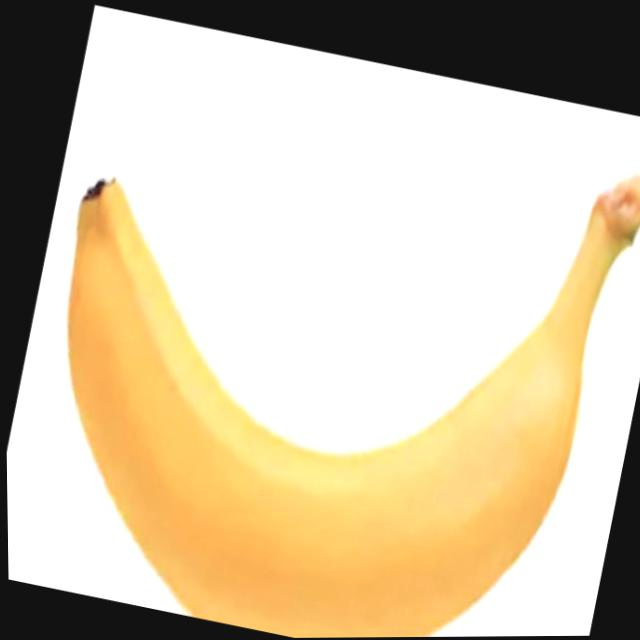Banana: (1, 56, 640, 640)
